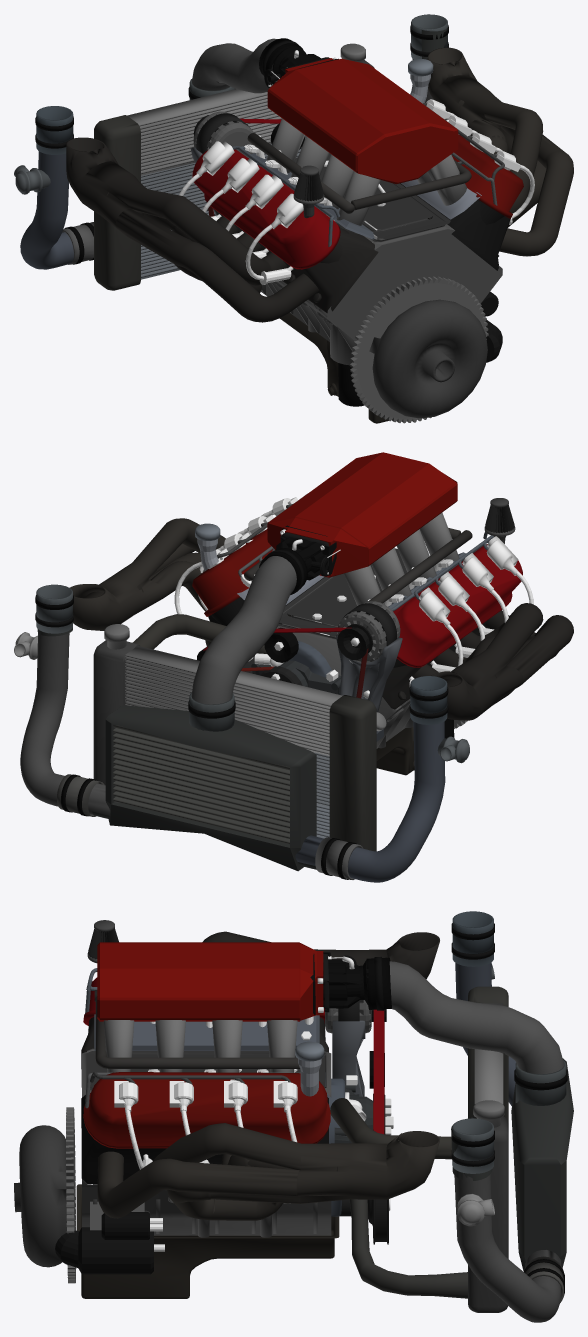
The model's file is motor2.glb.
The picture shows the model from 3 angles, top to bottom: view 1: azimuth 30°, elevation 25°; view 2: azimuth 150°, elevation 25°; view 3: azimuth 270°, elevation 25°; orthographic projection. The views are drawn at different scales.
Visible parts, largest first — view 1: New_Game_Object_MaterialStandart__Instance__0.003, New_Game_Object_MaterialStandart__Instance__0.008, New_Game_Object_MaterialStandart__Instance__0.182, New_Game_Object_MaterialStandart__Instance__0.188, New_Game_Object_MaterialStandart__Instance__0.081, New_Game_Object_MaterialStandart__Instance__0.117, New_Game_Object_MaterialStandart__Instance__0.133, New_Game_Object_MaterialStandart__Instance__0.187, New_Game_Object_MaterialStandart__Instance__0.007, New_Game_Object_MaterialStandart__Instance__0.009, New_Game_Object_MaterialStandart__Instance__0.132, New_Game_Object_MaterialStandart__Instance__0.021 (+20 smaller); view 2: New_Game_Object_MaterialStandart__Instance__0.017, New_Game_Object_MaterialStandart__Instance__0.008, New_Game_Object_MaterialStandart__Instance__0.018, New_Game_Object_MaterialStandart__Instance__0.133, New_Game_Object_MaterialStandart__Instance__0.003, New_Game_Object_MaterialStandart__Instance__0.182, New_Game_Object_MaterialStandart__Instance__0.007, New_Game_Object_MaterialStandart__Instance__0.005, New_Game_Object_MaterialStandart__Instance__0.132, New_Game_Object_MaterialStandart__Instance__0.140, New_Game_Object_MaterialStandart__Instance__0.117, New_Game_Object_MaterialStandart__Instance__0.009 (+30 smaller); view 3: New_Game_Object_MaterialStandart__Instance__0.182, New_Game_Object_MaterialStandart__Instance__0.008, New_Game_Object_MaterialStandart__Instance__0.155, New_Game_Object_MaterialStandart__Instance__0.005, New_Game_Object_MaterialStandart__Instance__0.018, New_Game_Object_MaterialStandart__Instance__0.004, New_Game_Object_MaterialStandart__Instance__0.188, New_Game_Object_MaterialStandart__Instance__0.140, New_Game_Object_MaterialStandart__Instance__0.081, New_Game_Object_MaterialStandart__Instance__0.009, New_Game_Object_MaterialStandart__Instance__0.002, New_Game_Object_MaterialStandart__Instance__0.194 (+29 smaller).
Boxes of the visible parts, box(x1,y1,x2,y2) form: New_Game_Object_MaterialStandart__Instance__0.003: box(66, 137, 319, 322); New_Game_Object_MaterialStandart__Instance__0.008: box(267, 58, 458, 184); New_Game_Object_MaterialStandart__Instance__0.182: box(427, 47, 573, 256); New_Game_Object_MaterialStandart__Instance__0.188: box(369, 299, 487, 418); New_Game_Object_MaterialStandart__Instance__0.081: box(261, 157, 502, 365); New_Game_Object_MaterialStandart__Instance__0.117: box(192, 149, 340, 269); New_Game_Object_MaterialStandart__Instance__0.133: box(127, 89, 305, 175); New_Game_Object_MaterialStandart__Instance__0.187: box(349, 276, 488, 423); New_Game_Object_MaterialStandart__Instance__0.007: box(94, 115, 140, 290); New_Game_Object_MaterialStandart__Instance__0.009: box(266, 118, 466, 233); New_Game_Object_MaterialStandart__Instance__0.132: box(20, 120, 73, 269); New_Game_Object_MaterialStandart__Instance__0.021: box(213, 208, 378, 313); New_Game_Object_MaterialStandart__Instance__0.017: box(113, 724, 289, 844); New_Game_Object_MaterialStandart__Instance__0.008: box(267, 452, 457, 577); New_Game_Object_MaterialStandart__Instance__0.018: box(92, 705, 316, 871); New_Game_Object_MaterialStandart__Instance__0.133: box(125, 646, 342, 755); New_Game_Object_MaterialStandart__Instance__0.003: box(409, 603, 573, 720); New_Game_Object_MaterialStandart__Instance__0.182: box(70, 518, 292, 646); New_Game_Object_MaterialStandart__Instance__0.007: box(329, 695, 376, 851); New_Game_Object_MaterialStandart__Instance__0.005: box(191, 556, 296, 704); New_Game_Object_MaterialStandart__Instance__0.132: box(289, 689, 445, 882); New_Game_Object_MaterialStandart__Instance__0.140: box(20, 633, 118, 815); New_Game_Object_MaterialStandart__Instance__0.117: box(393, 544, 522, 667); New_Game_Object_MaterialStandart__Instance__0.009: box(272, 512, 459, 605); New_Game_Object_MaterialStandart__Instance__0.182: box(97, 1123, 439, 1220); New_Game_Object_MaterialStandart__Instance__0.008: box(97, 942, 323, 1021); New_Game_Object_MaterialStandart__Instance__0.155: box(83, 1072, 330, 1148); New_Game_Object_MaterialStandart__Instance__0.005: box(389, 961, 563, 1074); New_Game_Object_MaterialStandart__Instance__0.018: box(511, 1058, 573, 1270); New_Game_Object_MaterialStandart__Instance__0.004: box(76, 1184, 339, 1298); New_Game_Object_MaterialStandart__Instance__0.188: box(14, 1125, 66, 1267); New_Game_Object_MaterialStandart__Instance__0.140: box(454, 1171, 561, 1322); New_Game_Object_MaterialStandart__Instance__0.081: box(82, 1048, 331, 1237); New_Game_Object_MaterialStandart__Instance__0.009: box(103, 1020, 297, 1072); New_Game_Object_MaterialStandart__Instance__0.002: box(349, 1199, 467, 1298); New_Game_Object_MaterialStandart__Instance__0.194: box(55, 1227, 153, 1274).
Size of the model in its own units: 69.42 by 41.51 by 65.95.
